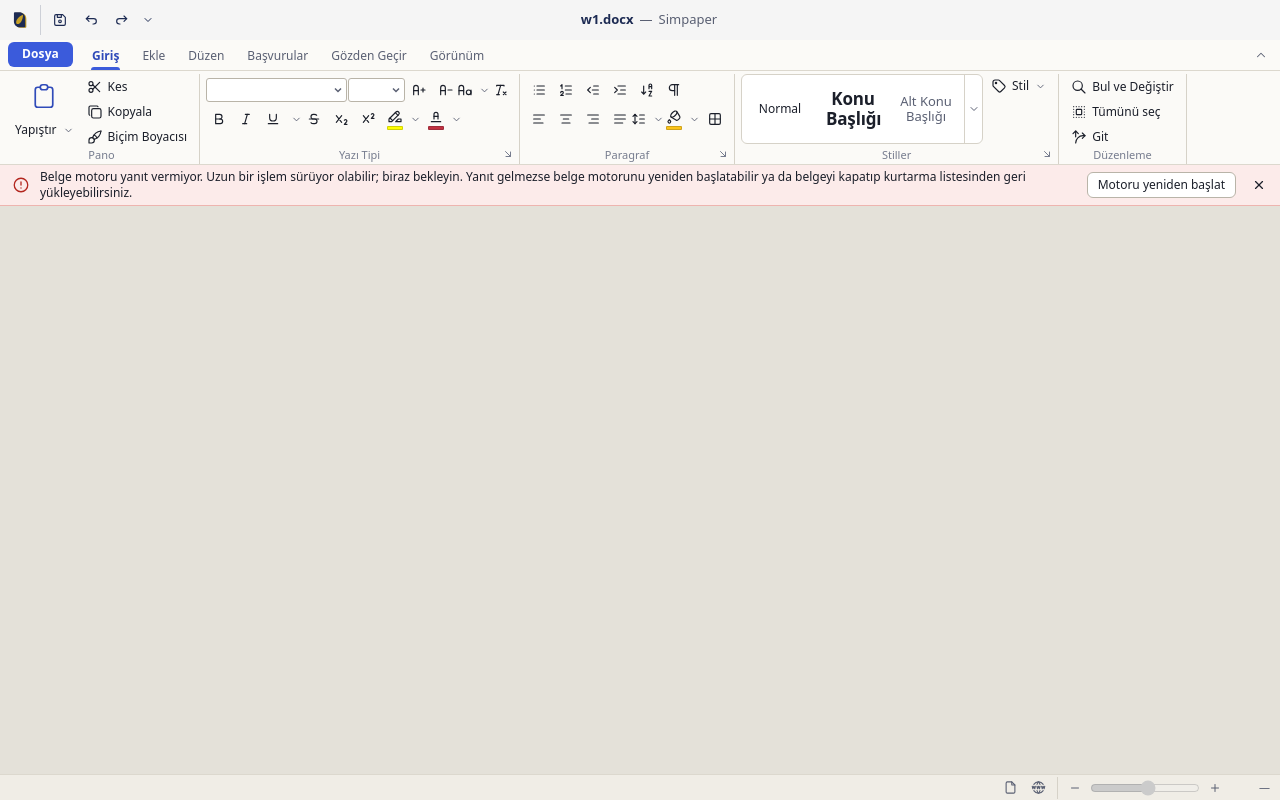
it: message bars and shortcuts › offers to restart the engine of a document that stopped responding
This screenshot has width=1280, height=800.
Click the button "Motoru yeniden başlat" at [1161, 185], box [1087,172,1236,198]
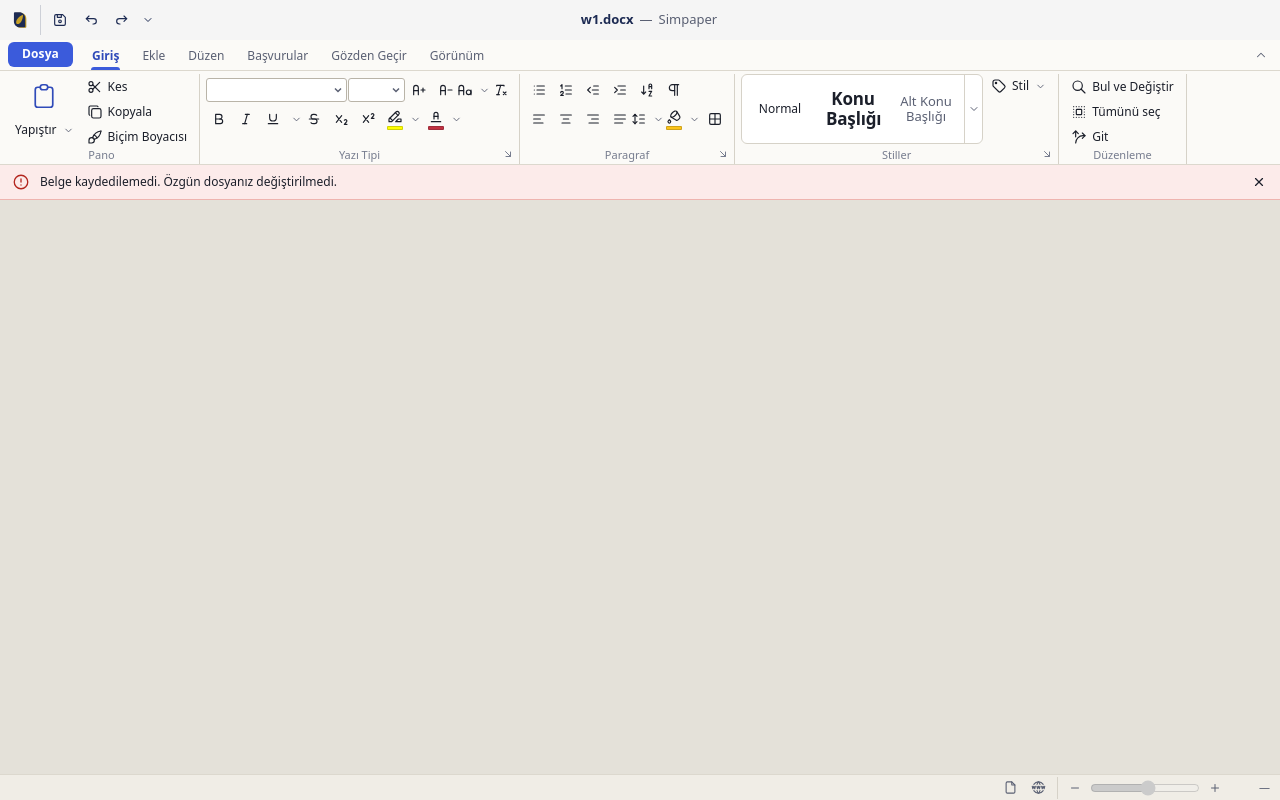
Expected: the button "Motoru yeniden başlat" is gone
